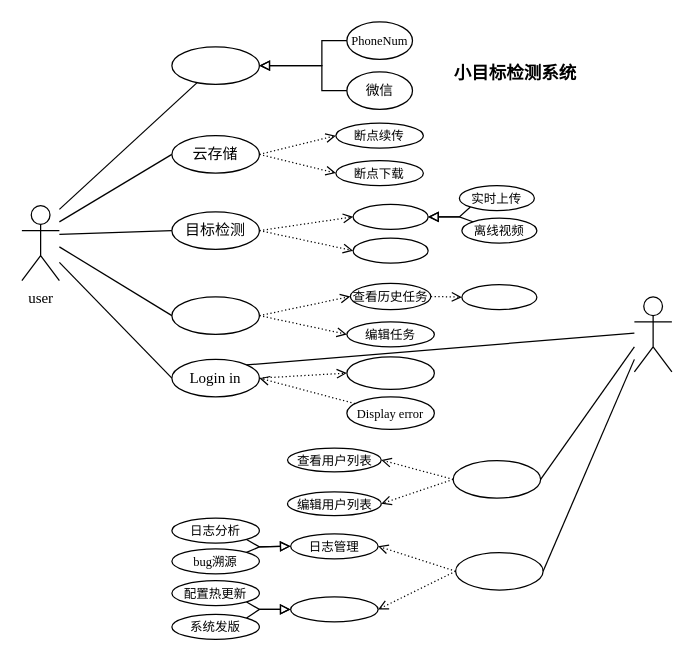
Some shapes in this 700 by 661 pixel diagram are drawn without their labels. Here are the shapes that lost their labels. From the top down, the centre of each, then its label:
At pixel 215 65: "Sign up".
At pixel 390 216: "上传视频".
At pixel 390 250: "视频检测".
At pixel 215 315: "任务管理".
At pixel 499 296: "重新下载".
At pixel 652 334: "manager".
At pixel 390 372: "Verify Account".
At pixel 496 478: "用户管理".
At pixel 498 570: "系统运维".
At pixel 333 609: "系统维护".
